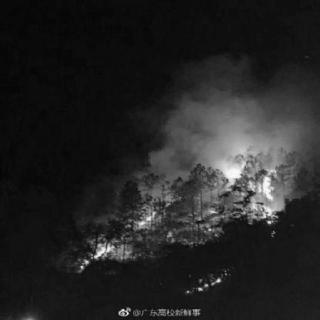Fire: (172, 266, 240, 298)
